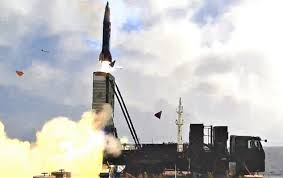ten_lua: (97, 1, 116, 72)
